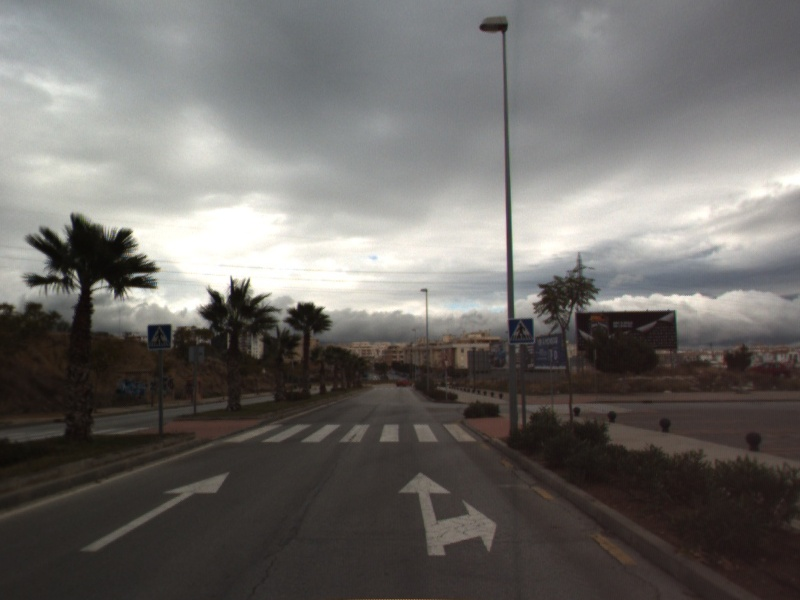STRAIGHT: (78, 470, 232, 554)
STRAIGHT_RIGHT: (396, 470, 499, 558)
